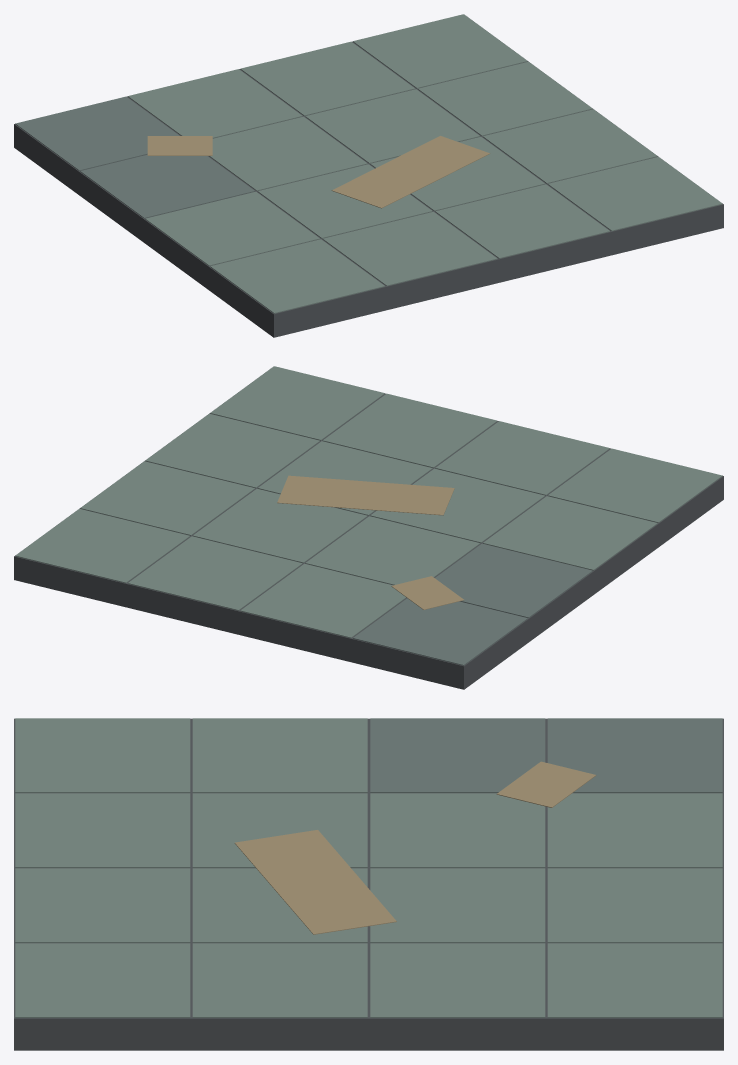
The model's file is floor_an_carpet2.glb.
3 renders of one model, top to bottom at view 1: azimuth 30°, elevation 25°; view 2: azimuth 150°, elevation 25°; view 3: azimuth 270°, elevation 25°, orthographic. The views are drawn at different scales.
Parts seen in each view (by area): view 1: floor_an_carpet2; view 2: floor_an_carpet2; view 3: floor_an_carpet2.
Boxes of the visible parts, bbox=[...] form: floor_an_carpet2: bbox=[14, 14, 723, 337]; floor_an_carpet2: bbox=[14, 366, 723, 689]; floor_an_carpet2: bbox=[14, 718, 723, 1050].
Bounding box in the file's own units: 4 × 0.21 × 4.
